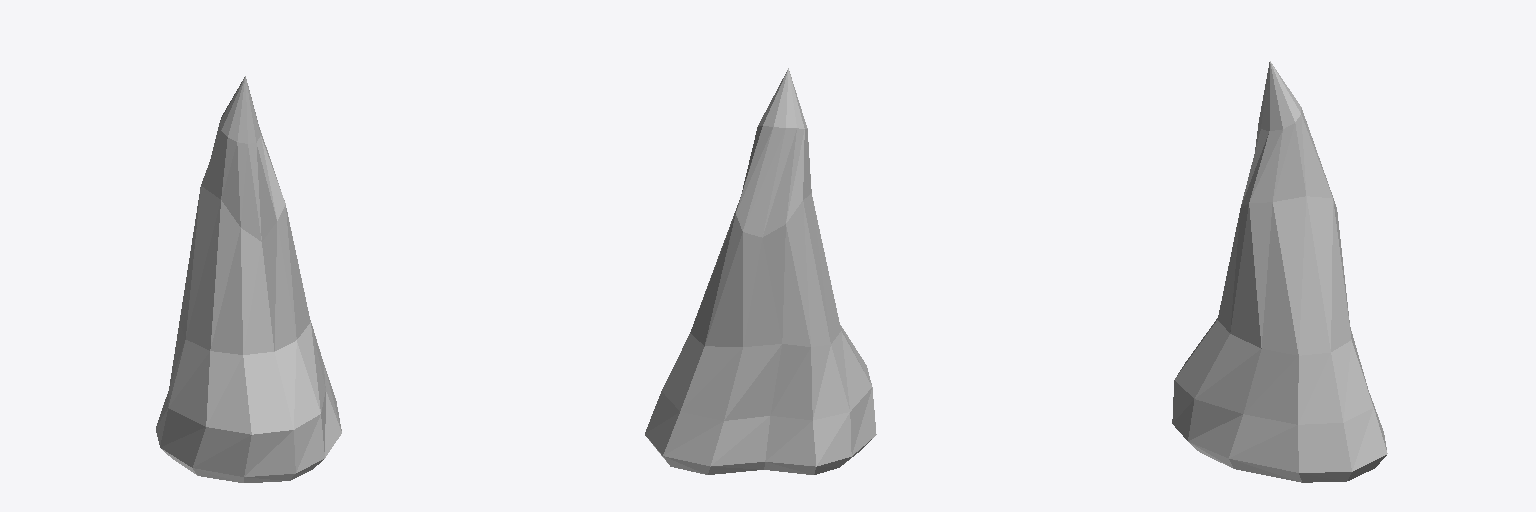
Rendered from stalactite1.obj.
3 views of the same model, side by side, from view 1: azimuth 30°, elevation 25°; view 2: azimuth 150°, elevation 25°; view 3: azimuth 270°, elevation 25° (orthographic).
Parts seen in each view (by area): view 1: pCylinder1; view 2: pCylinder1; view 3: pCylinder1.
Boxes of the visible parts, box(x1,y1,x2,y2) form: pCylinder1: box(156, 76, 341, 482); pCylinder1: box(645, 68, 876, 474); pCylinder1: box(1172, 61, 1387, 482).
Bounding box in the file's own units: 2.97 × 5.94 × 3.08.